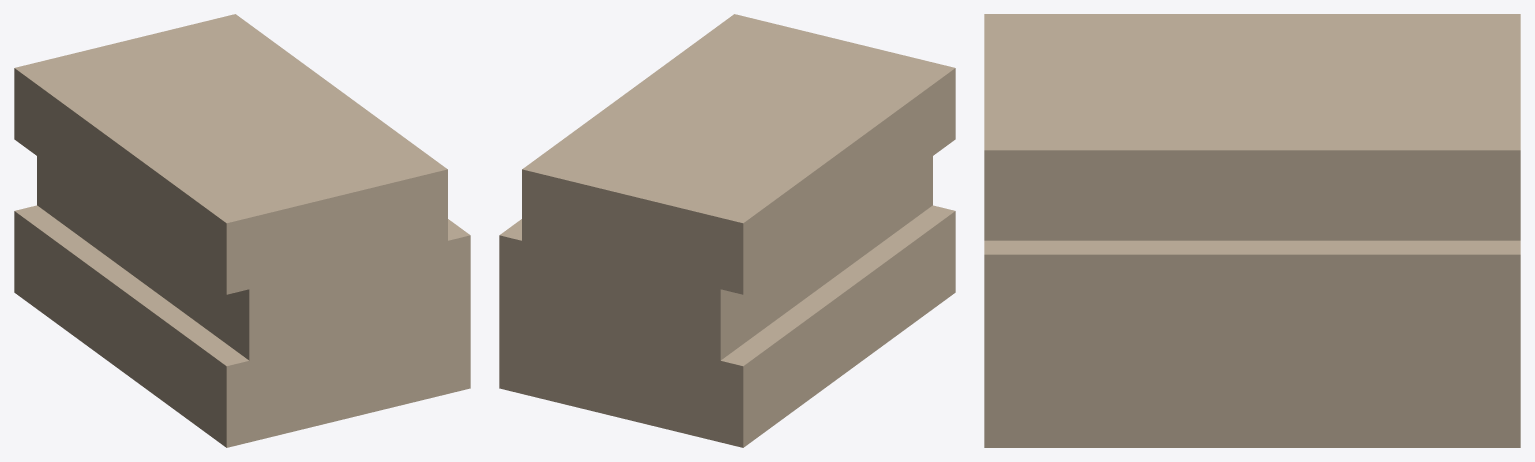
Rendered from massing.glb.
3 renders of one model, left to right at view 1: azimuth 30°, elevation 25°; view 2: azimuth 150°, elevation 25°; view 3: azimuth 270°, elevation 25°, orthographic. The views are drawn at different scales.
Visible parts, largest first — view 1: building/exterior; view 2: building/exterior; view 3: building/exterior.
Part boxes in pixels (x1,y1,x2,y2): building/exterior: (14,14,470,447); building/exterior: (499,14,955,447); building/exterior: (984,14,1520,447).
Size of the model in its own units: 10 by 8.8 by 15.07.
